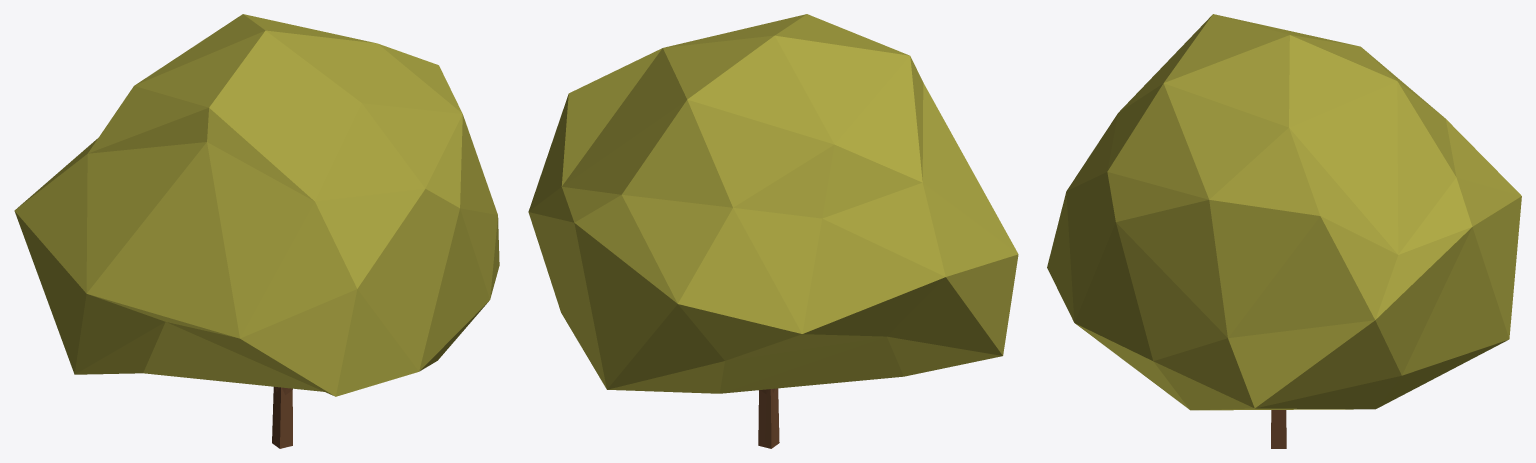
File: Tree_18_Yellow.fbx
3 views of the same model, side by side, from view 1: azimuth 30°, elevation 25°; view 2: azimuth 150°, elevation 25°; view 3: azimuth 270°, elevation 25° (orthographic). The views are drawn at different scales.
Parts seen in each view (by area): view 1: Tree_18_Yellow_Part_1, Tree_18_Yellow_Part_2; view 2: Tree_18_Yellow_Part_1, Tree_18_Yellow_Part_2; view 3: Tree_18_Yellow_Part_1, Tree_18_Yellow_Part_2.
Boxes of the visible parts, box(x1,y1,x2,y2) form: Tree_18_Yellow_Part_1: box(14, 14, 499, 396); Tree_18_Yellow_Part_2: box(272, 386, 292, 448); Tree_18_Yellow_Part_1: box(528, 14, 1018, 393); Tree_18_Yellow_Part_2: box(758, 388, 779, 448); Tree_18_Yellow_Part_1: box(1047, 14, 1521, 410); Tree_18_Yellow_Part_2: box(1271, 410, 1286, 448).
Size of the model in its own units: 804 by 743 by 788.
